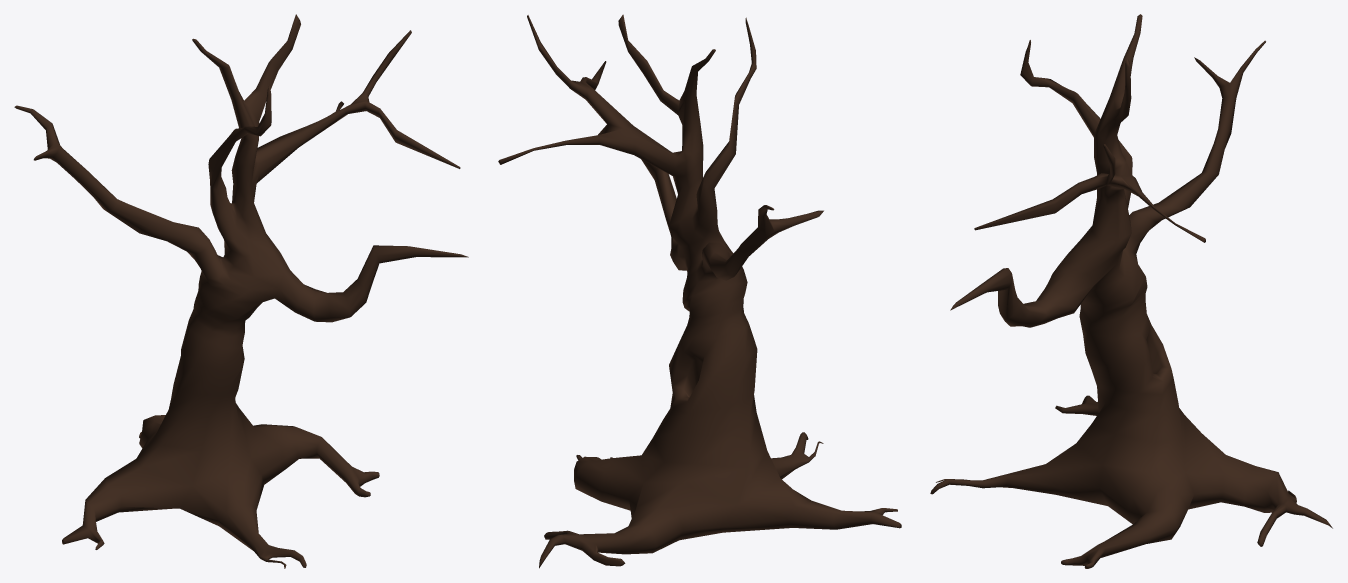
Rendered from DeadTree_LoWPoly.fbx.
3 views of the same model, side by side, from view 1: azimuth 30°, elevation 25°; view 2: azimuth 150°, elevation 25°; view 3: azimuth 270°, elevation 25° (orthographic). The views are drawn at different scales.
Parts seen in each view (by area): view 1: DeadTree_LoPoly; view 2: DeadTree_LoPoly; view 3: DeadTree_LoPoly.
Boxes of the visible parts, box(x1,y1,x2,y2) form: DeadTree_LoPoly: box(14, 14, 468, 568); DeadTree_LoPoly: box(498, 14, 901, 568); DeadTree_LoPoly: box(930, 14, 1332, 568).
Size of the model in its own units: 4849 by 6126 by 4578.
